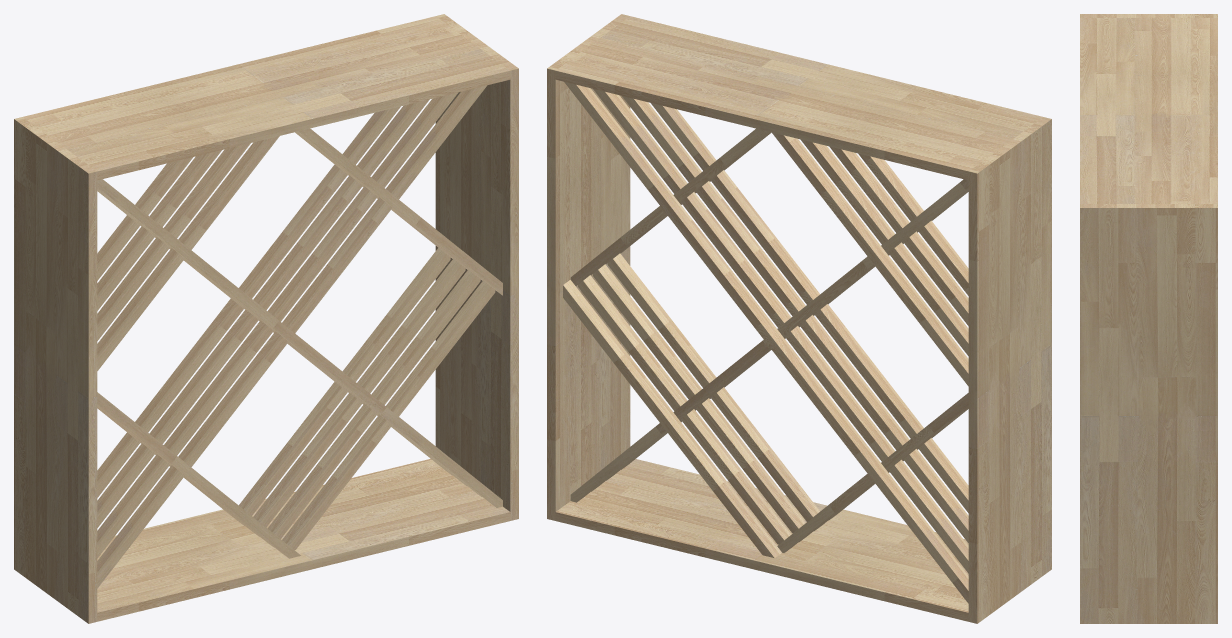
3 renders of one model, left to right at view 1: azimuth 30°, elevation 25°; view 2: azimuth 150°, elevation 25°; view 3: azimuth 270°, elevation 25°, orthographic. The views are drawn at different scales.
Parts seen in each view (by area): view 1: Korpus side, Korpus bund_top.013, Korpus side.001, Korpus bund_top.012, Lang lamel.001, Lang lamel, Lang lamel.003, Lang lamel.002, Lang lamel.007, Kort lamel.010, Kort lamel.007, Kort lamel.008 (+7 smaller); view 2: Korpus side, Korpus bund_top.013, Korpus side.001, Korpus bund_top.012, Lang lamel.002, Lang lamel.003, Lang lamel, Lang lamel.001, Kort lamel.009, Kort lamel.008, Kort lamel.007, Kort lamel.010 (+7 smaller); view 3: Korpus side.001, Korpus bund_top.013, Korpus side.
Boxes of the visible parts, <box> form: Korpus side: <box>14,117,97,623</box>; Korpus bund_top.013: <box>23,16,510,180</box>; Korpus side.001: <box>435,14,518,520</box>; Korpus bund_top.012: <box>97,458,510,621</box>; Lang lamel.001: <box>97,85,486,588</box>; Lang lamel: <box>97,92,458,558</box>; Lang lamel.003: <box>97,99,429,527</box>; Lang lamel.002: <box>97,106,400,497</box>; Lang lamel.007: <box>97,179,502,507</box>; Kort lamel.010: <box>282,280,495,549</box>; Kort lamel.007: <box>267,269,480,538</box>; Kort lamel.008: <box>253,258,465,527</box>; Korpus side: <box>968,117,1051,623</box>; Korpus bund_top.013: <box>555,16,1042,180</box>; Korpus side.001: <box>547,14,630,520</box>; Korpus bund_top.012: <box>555,459,968,621</box>; Lang lamel.002: <box>564,82,968,603</box>; Lang lamel.003: <box>593,89,968,573</box>; Lang lamel: <box>622,96,968,542</box>; Lang lamel.001: <box>651,103,968,512</box>; Kort lamel.009: <box>563,280,781,558</box>; Kort lamel.008: <box>578,275,791,544</box>; Kort lamel.007: <box>593,264,805,533</box>; Kort lamel.010: <box>607,253,819,521</box>; Korpus side.001: <box>1080,204,1217,623</box>; Korpus bund_top.013: <box>1080,18,1217,203</box>; Korpus side: <box>1080,14,1217,17</box>.
Size of the model in its own units: 1 by 1 by 0.3.
1 material, 1 textured.
